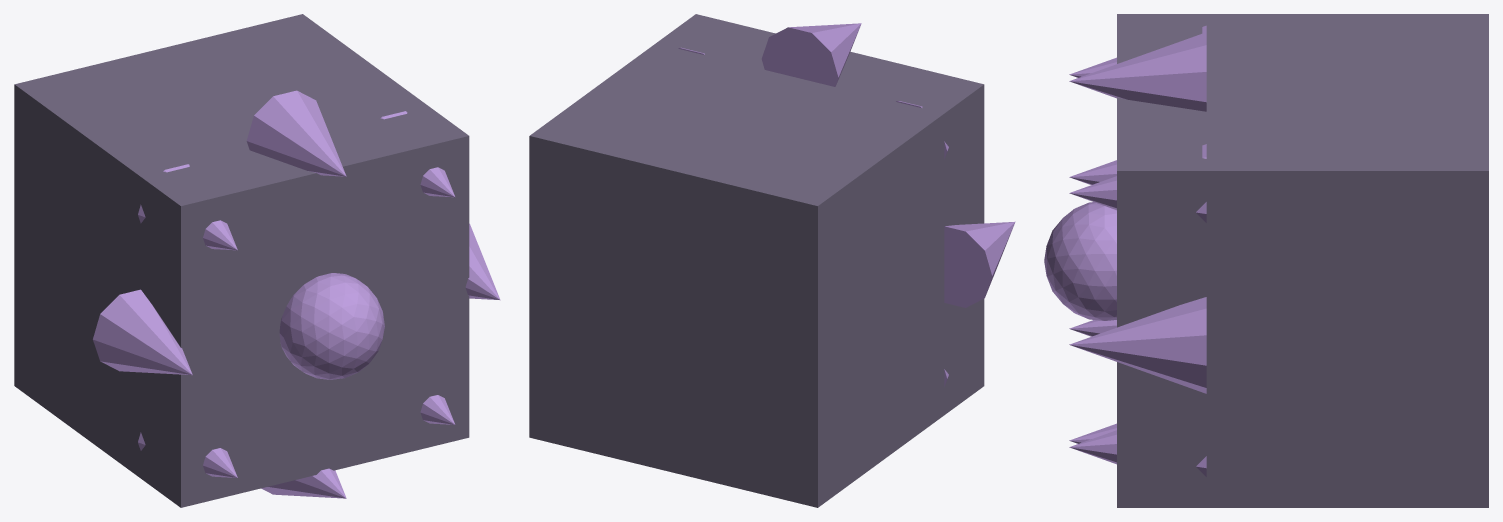
File: obsidian_web.glb
3 views of the same model, side by side, from view 1: azimuth 30°, elevation 25°; view 2: azimuth 150°, elevation 25°; view 3: azimuth 270°, elevation 25° (orthographic). The views are drawn at different scales.
Visible parts, largest first — view 1: world; view 2: world; view 3: world.
Boxes of the visible parts, x1,y1,x2,y2 form: world: (14, 14, 500, 507); world: (529, 14, 1015, 507); world: (1044, 14, 1488, 507).
Bounding box in the file's own units: 1.8 × 1.78 × 1.62.
